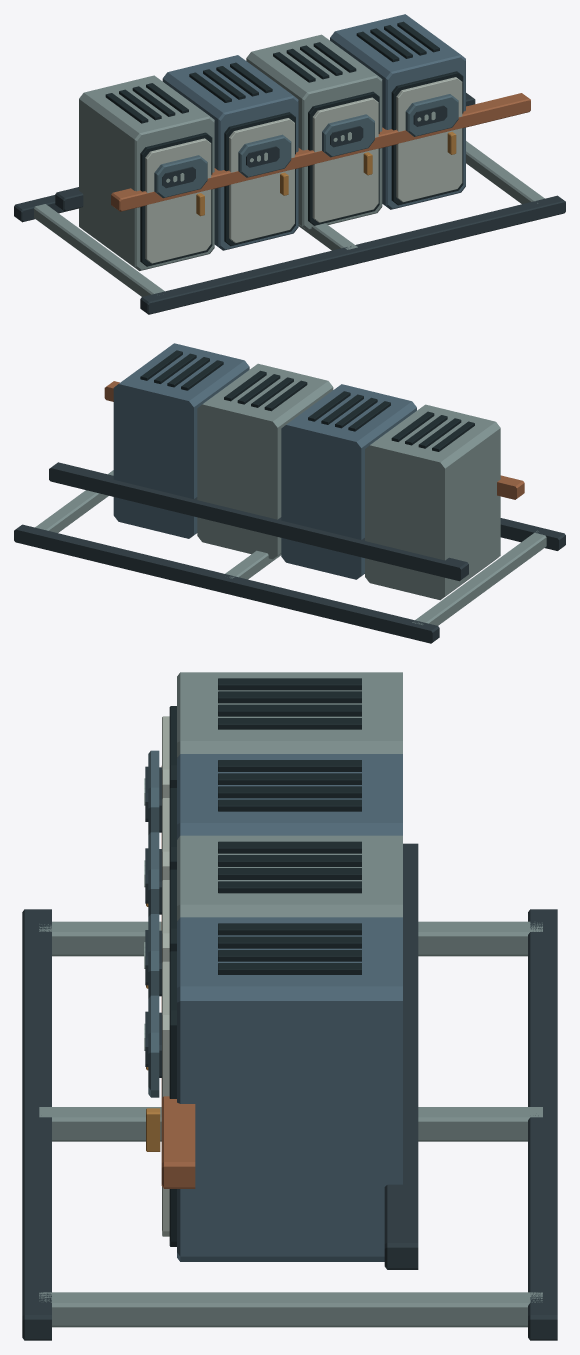
The model's file is UT-05_switchboard.glb.
3 views of the same model, one above another, from view 1: azimuth 30°, elevation 25°; view 2: azimuth 150°, elevation 25°; view 3: azimuth 270°, elevation 25° (orthographic). The views are drawn at different scales.
Parts seen in each view (by area): view 1: UT-05_switchboard; view 2: UT-05_switchboard; view 3: UT-05_switchboard.
Part boxes in pixels (x1,y1,x2,y2): UT-05_switchboard: (14, 14, 565, 314); UT-05_switchboard: (14, 343, 565, 643); UT-05_switchboard: (22, 672, 557, 1340).
Bounding box in the file's own units: 13 × 4.41 × 7.2.
